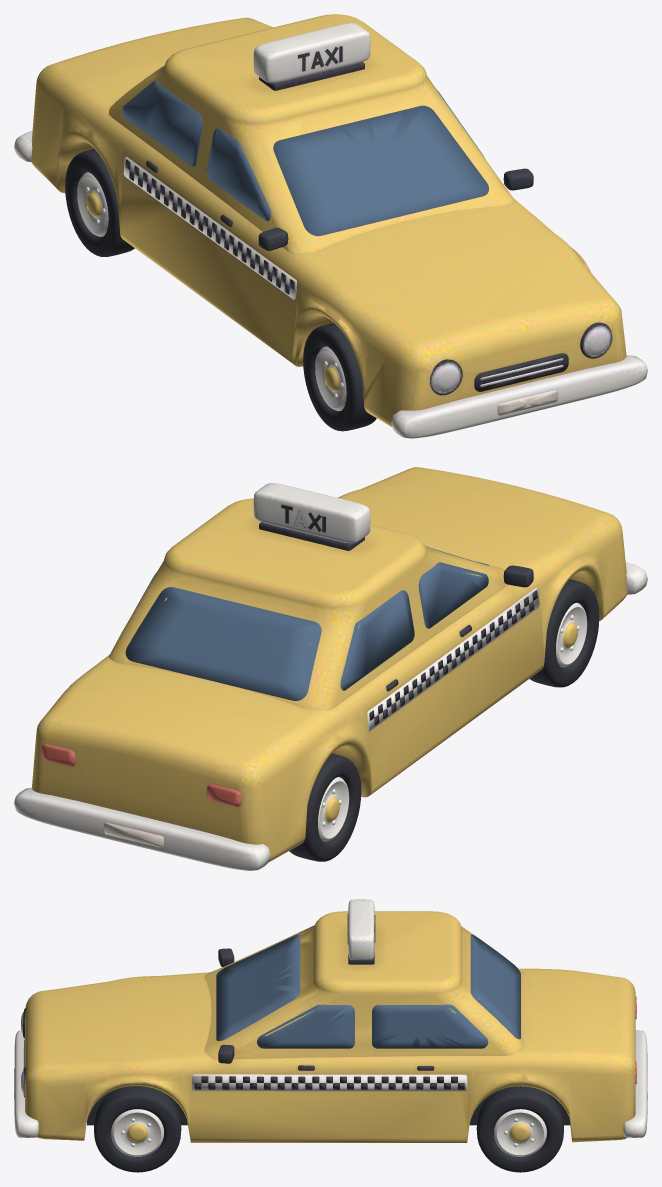
Rendered from taxi.glb.
3 renders of one model, top to bottom at view 1: azimuth 30°, elevation 25°; view 2: azimuth 150°, elevation 25°; view 3: azimuth 270°, elevation 25°, orthographic. The views are drawn at different scales.
Visible parts, largest first — view 1: taxi_body, taxi_windows, taxi_wheel_fr, taxi_wheel_rr; view 2: taxi_body, taxi_windows, taxi_wheel_rr, taxi_wheel_fr; view 3: taxi_body, taxi_windows, taxi_wheel_fl, taxi_wheel_rl.
Boxes of the visible parts, box(x1,y1,x2,y2) form: taxi_body: box(14, 14, 647, 438); taxi_windows: box(122, 67, 488, 236); taxi_wheel_fr: box(303, 322, 376, 431); taxi_wheel_rr: box(65, 148, 134, 256); taxi_body: box(14, 467, 647, 870); taxi_windows: box(125, 546, 488, 700); taxi_wheel_rr: box(289, 753, 361, 861); taxi_wheel_fr: box(529, 579, 599, 687); taxi_body: box(14, 899, 647, 1142); taxi_windows: box(216, 934, 520, 1048); taxi_wheel_fl: box(94, 1086, 181, 1172); taxi_wheel_rl: box(476, 1086, 563, 1172).
Size of the model in its own units: 1.9 by 1.74 by 4.79.
Materials: 5 (1 with a texture image).
